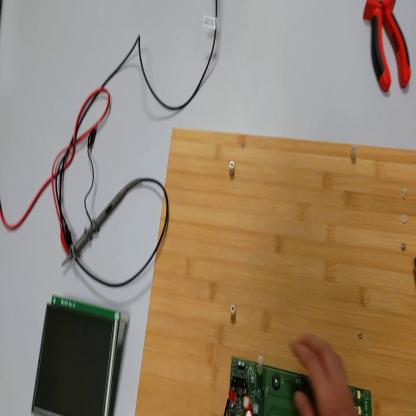hand: (290, 335, 356, 413)
low voltage board: (224, 355, 373, 416)
oscilloscope probe tip: (62, 177, 141, 268)
pliers: (363, 1, 412, 93)
working area: (135, 128, 416, 415)
